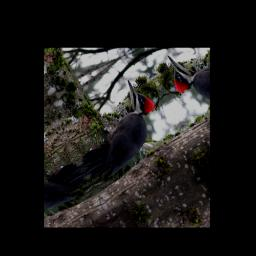Woodpecker: (57, 72, 177, 189)
